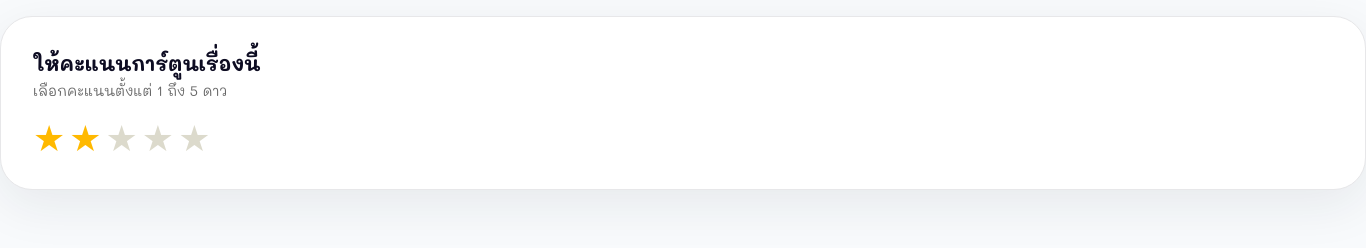
Test case: failed rating writes retain the previous selection and allow retry
Step 1. Click the 5th button "★" → (194, 137), box [178,117,210,157]
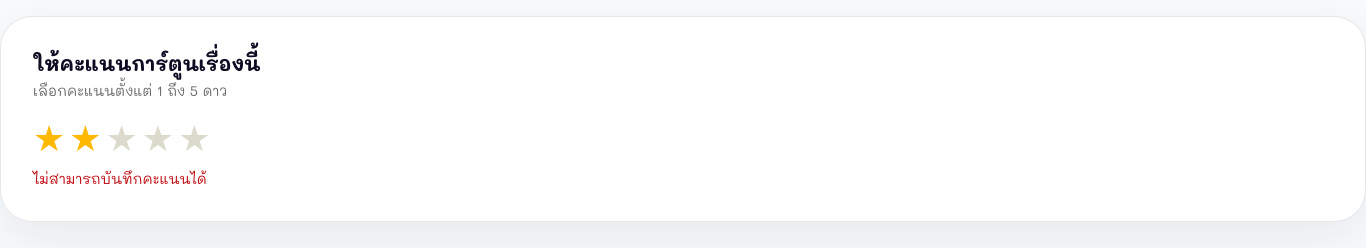
Expected: the message "ไม่สามารถบันทึกคะแนนได้" is shown, [33,169,207,188]
